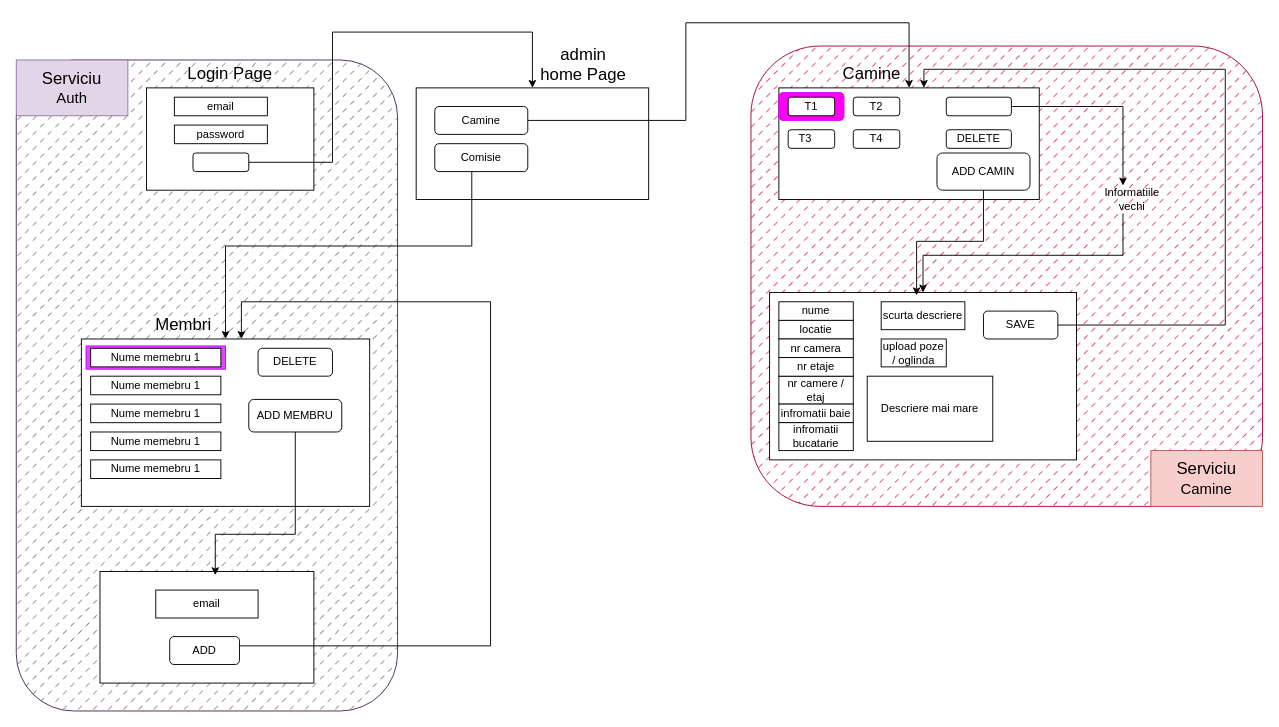
Image size: 1279x727. Some labels were removed from this diagram. Here are the shapes that lost their labels. From the top down, the centre of each, then its label:
the point at 978,106: EDIT
the point at 220,162: submit
